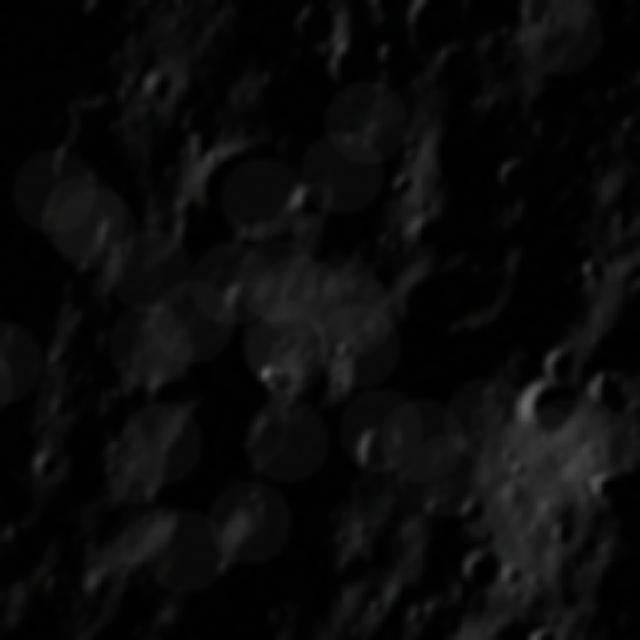crater: (327, 320, 481, 466), (208, 486, 324, 614), (185, 148, 306, 245), (39, 406, 130, 517), (246, 55, 345, 150), (386, 255, 494, 333), (412, 508, 480, 597), (503, 370, 583, 442), (394, 1, 469, 62), (346, 412, 403, 482), (326, 26, 379, 100), (286, 2, 346, 60), (179, 90, 227, 155), (460, 545, 518, 597), (372, 32, 420, 93), (208, 270, 258, 328), (530, 333, 582, 384), (574, 458, 624, 509), (237, 413, 288, 459), (490, 149, 532, 203), (582, 364, 626, 414), (523, 113, 571, 155), (22, 441, 62, 487), (394, 458, 431, 507), (36, 562, 76, 601), (226, 466, 260, 511), (561, 259, 596, 301), (542, 517, 580, 554), (291, 182, 323, 222), (74, 252, 108, 288), (143, 65, 174, 103), (499, 554, 526, 592), (388, 172, 420, 199)
